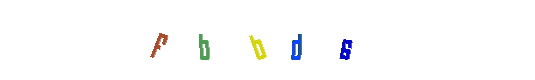6: (284, 0, 364, 80)
B: (186, 0, 266, 80), (218, 0, 298, 80)
D: (227, 0, 307, 80)
F: (119, 0, 199, 80)
